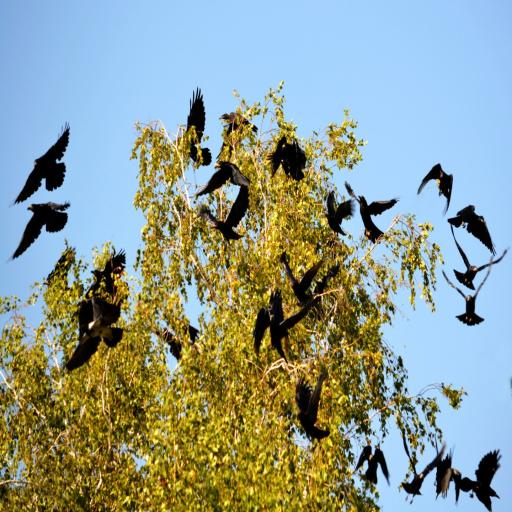birds: (62, 291, 127, 371), (13, 120, 72, 203), (444, 221, 510, 292), (8, 198, 72, 264), (399, 424, 449, 503), (459, 443, 509, 511), (171, 86, 212, 168), (439, 270, 495, 330), (192, 150, 258, 199), (200, 184, 253, 244), (292, 366, 333, 442), (282, 254, 327, 322), (354, 189, 403, 244), (450, 198, 497, 254), (414, 159, 457, 215), (351, 440, 394, 495), (269, 131, 311, 187), (319, 190, 356, 238)
